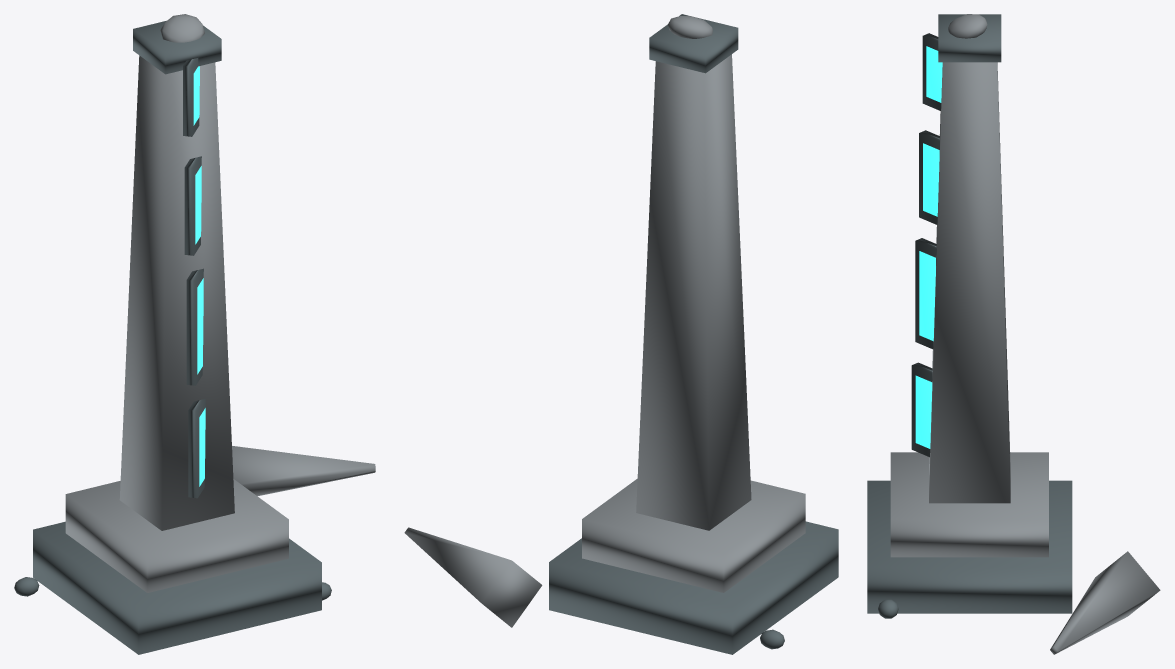
File: 3D模型 props_obelisk.glb
3 views of the same model, side by side, from view 1: azimuth 30°, elevation 25°; view 2: azimuth 150°, elevation 25°; view 3: azimuth 270°, elevation 25° (orthographic). The views are drawn at different scales.
Parts seen in each view (by area): view 1: Cone, part_plinth_lo, part_plinth_hi, Cone.001, part_break_band, part_groove_1, part_groove_2, part_groove_0, part_break_jag, part_groove_3, part_rune_1; view 2: Cone, part_plinth_lo, part_plinth_hi, Cone.001, part_break_band, part_break_jag; view 3: Cone, part_plinth_lo, part_plinth_hi, Cone.001, part_break_band, part_rune_1, part_rune_0, part_rune_2, part_groove_1, part_groove_0, part_rune_3, part_break_jag (+2 smaller).
Boxes of the visible parts, <box> form: Cone: <box>119,55,234,530</box>; part_plinth_lo: <box>33,521,321,654</box>; part_plinth_hi: <box>65,479,288,592</box>; Cone.001: <box>232,446,375,496</box>; part_break_band: <box>133,20,221,74</box>; part_groove_1: <box>186,268,203,385</box>; part_groove_2: <box>184,156,201,255</box>; part_groove_0: <box>188,399,205,498</box>; part_break_jag: <box>160,14,204,42</box>; part_groove_3: <box>183,58,199,136</box>; part_rune_1: <box>197,278,203,374</box>; Cone: <box>636,54,751,530</box>; part_plinth_lo: <box>549,521,838,654</box>; part_plinth_hi: <box>582,478,805,592</box>; Cone.001: <box>404,527,542,627</box>; part_break_band: <box>649,14,738,73</box>; part_break_jag: <box>668,16,712,38</box>; Cone: <box>929,62,1010,503</box>; part_plinth_lo: <box>867,480,1072,613</box>; part_plinth_hi: <box>890,452,1048,557</box>; Cone.001: <box>1050,551,1160,654</box>; part_break_band: <box>938,14,1001,62</box>; part_rune_1: <box>919,251,935,341</box>; part_rune_0: <box>915,375,932,448</box>; part_rune_2: <box>923,143,939,216</box>; part_groove_1: <box>915,238,936,349</box>; part_groove_0: <box>911,362,932,457</box>; part_rune_3: <box>926,46,942,102</box>; part_break_jag: <box>948,14,987,38</box>.
Bounding box in the file's own units: 1.77 × 2.64 × 1.26.
